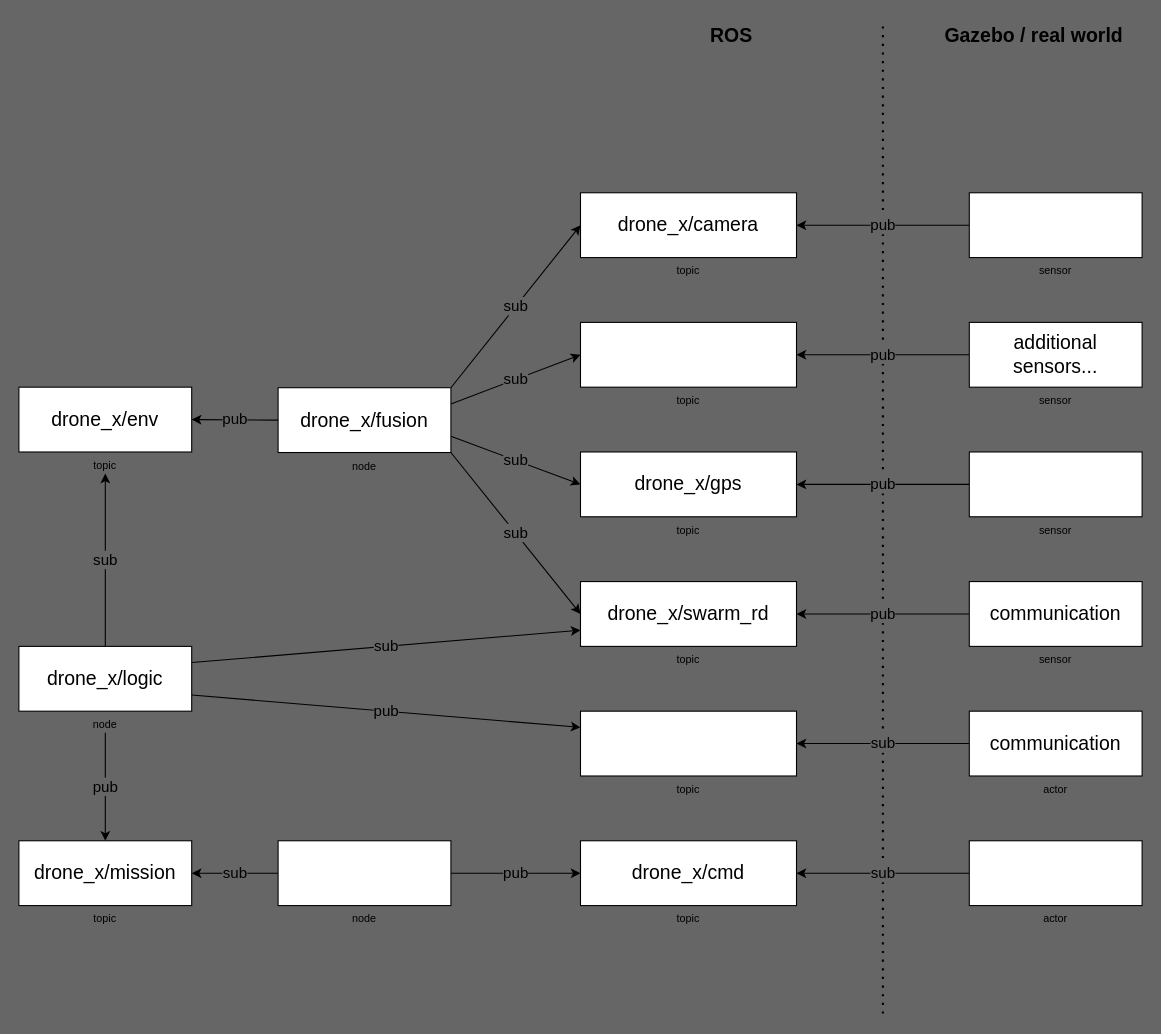
This 1161x1034 diagram has some shape labels left out. The centre of each missing label's shape, as x and y in pixels:
camera: point 1055,225
drone rotors: point 1055,873
drone_x/autopilot: point 364,873
drone_x/sensor_...: point 687,354
drone_x/swarm_wr: point 687,743
GPS: point 1055,484
